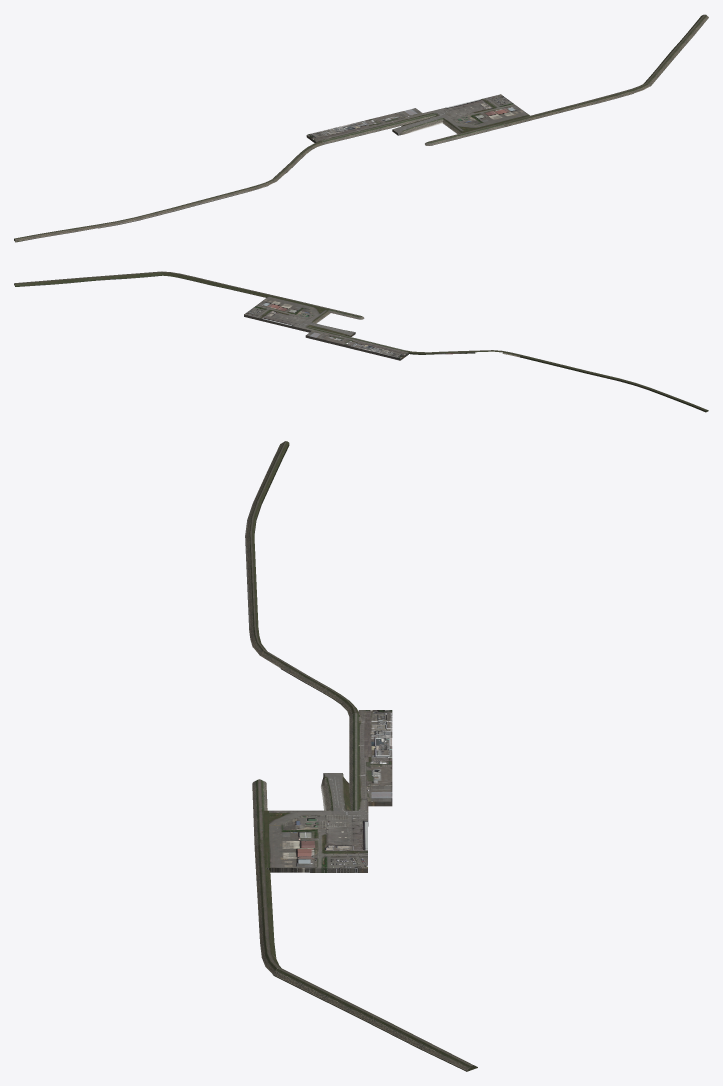
3 renders of one model, top to bottom at view 1: azimuth 30°, elevation 25°; view 2: azimuth 150°, elevation 25°; view 3: azimuth 270°, elevation 25°, orthographic. The views are drawn at different scales.
Visible parts, largest first — view 1: 立方体.002, 立方体.003, 立方体; view 2: 立方体.002; view 3: 立方体.002.
Part boxes in pixels (box(x1,y1,x2,y2)): 立方体.002: box(14, 14, 708, 242); 立方体.003: box(429, 123, 505, 145); 立方体: box(359, 113, 436, 135); 立方体.002: box(14, 271, 708, 412); 立方体.002: box(245, 441, 477, 1071).
Bounding box in the file's own units: 173 × 1.37 × 26.9.
2 materials, 2 textured.
